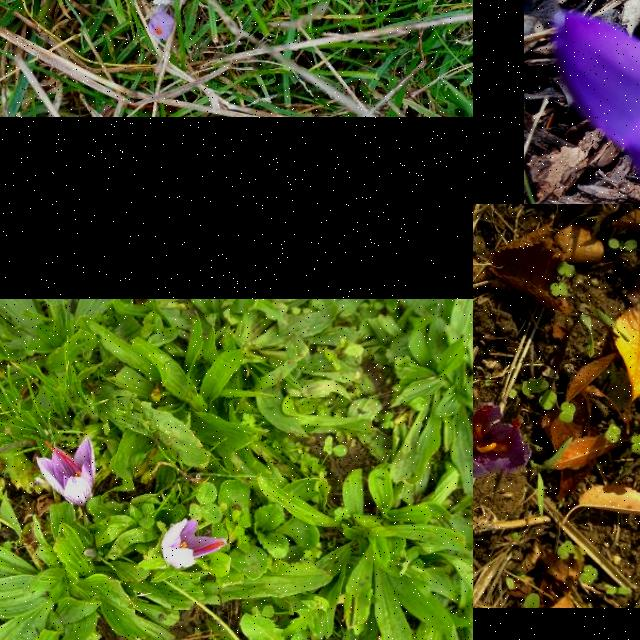flower: (473, 403, 532, 479), (36, 440, 94, 512), (162, 516, 228, 568), (148, 12, 175, 40)
